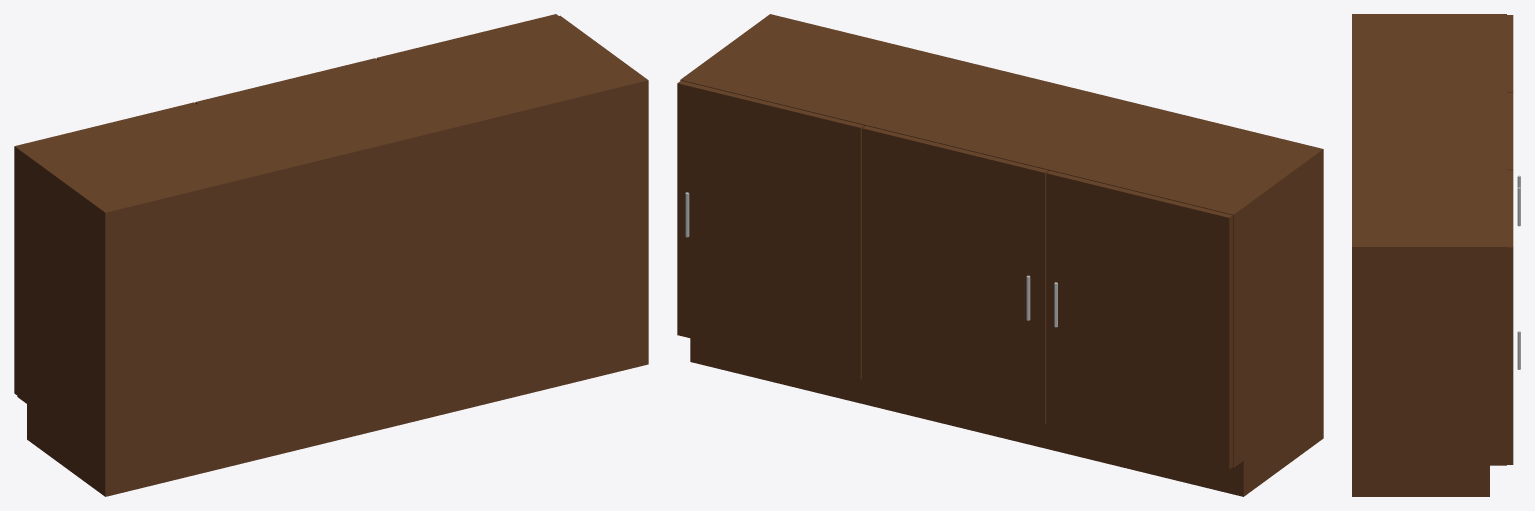
File: furniture.storage.sideboard.glb
3 views of the same model, side by side, from view 1: azimuth 30°, elevation 25°; view 2: azimuth 150°, elevation 25°; view 3: azimuth 270°, elevation 25° (orthographic). The views are drawn at different scales.
Visible parts, largest first — view 1: main__hardwood; view 2: main__hardwood; view 3: main__hardwood, main__steel_stainless.
Part boxes in pixels (<box>): main__hardwood: <box>14,14,648,496</box>; main__hardwood: <box>677,14,1323,496</box>; main__hardwood: <box>1352,14,1513,496</box>; main__steel_stainless: <box>1517,175,1520,369</box>.
Size of the model in its own units: 1.6 by 0.8 by 0.49.
